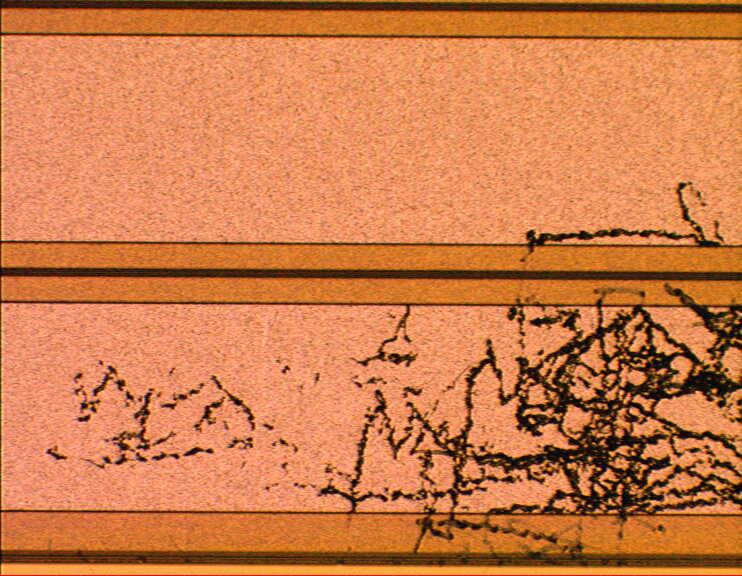SCRATCH: (43, 172, 742, 560)
